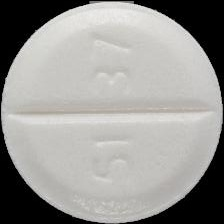0603-5438: (0, 0, 224, 224)
